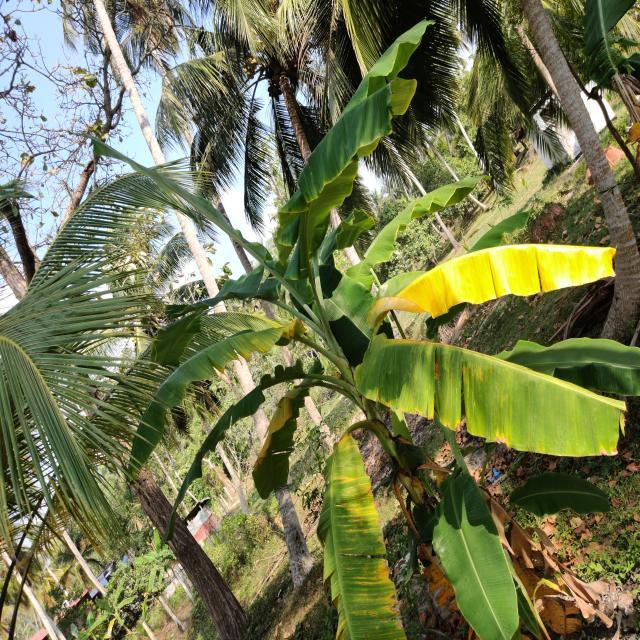Cordana: (420, 328, 628, 474), (307, 421, 431, 640), (363, 228, 640, 325), (389, 528, 471, 638), (246, 385, 311, 496), (225, 303, 312, 368), (518, 563, 576, 624)
